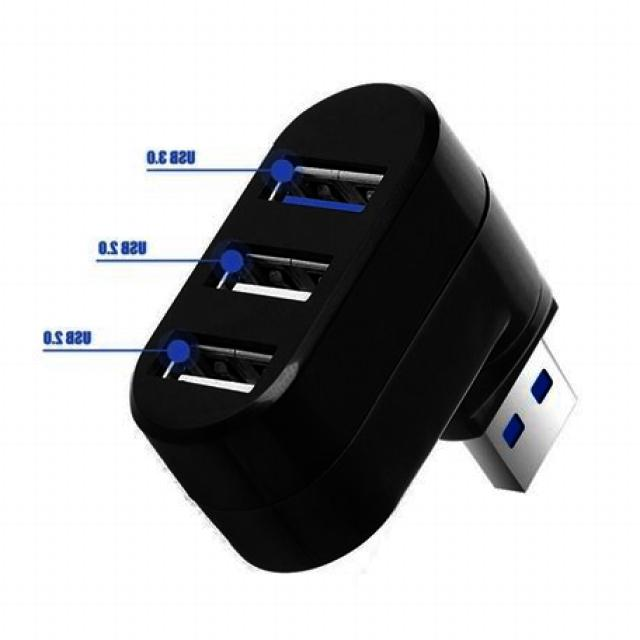usb port: (160, 312, 267, 398), (219, 237, 326, 302), (274, 153, 378, 219)
